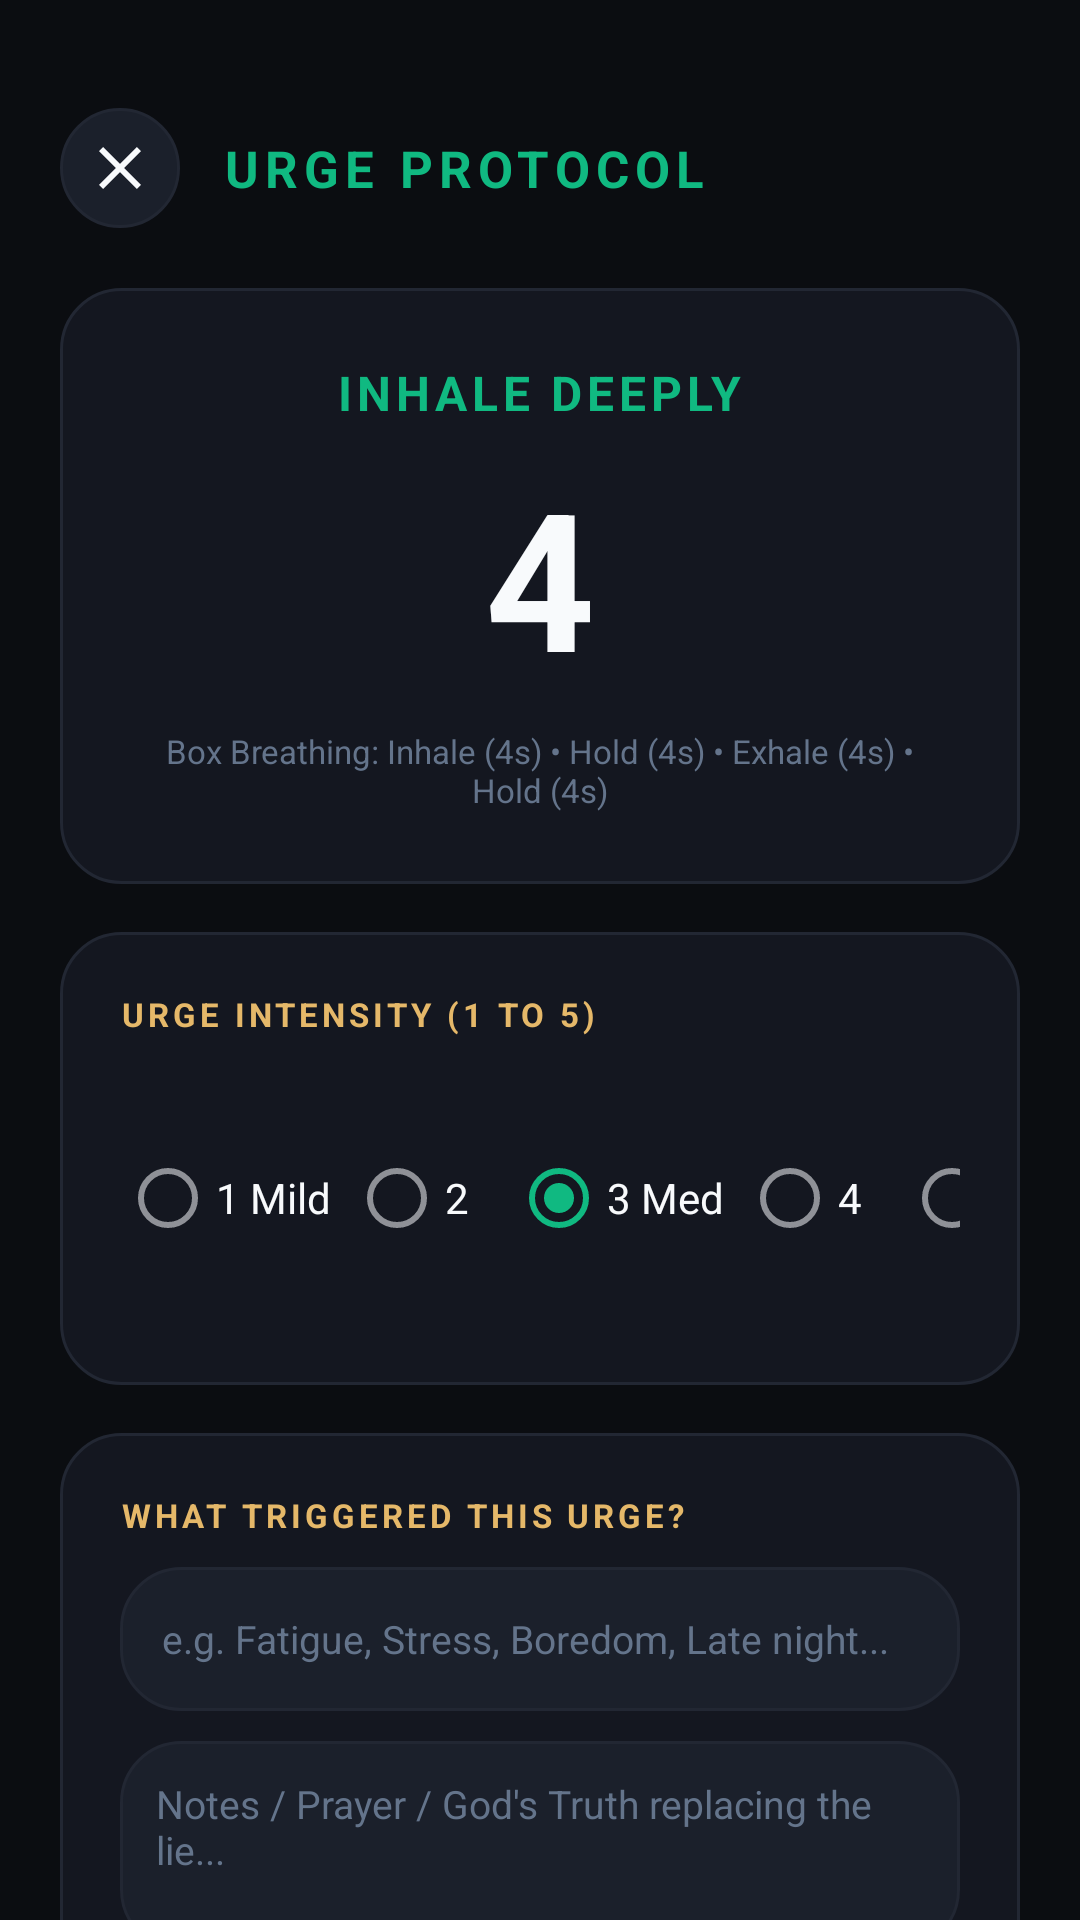

Icon click points for this 1080px x 1920px phone screenshot, format (x,y):
Close: (120,168)
